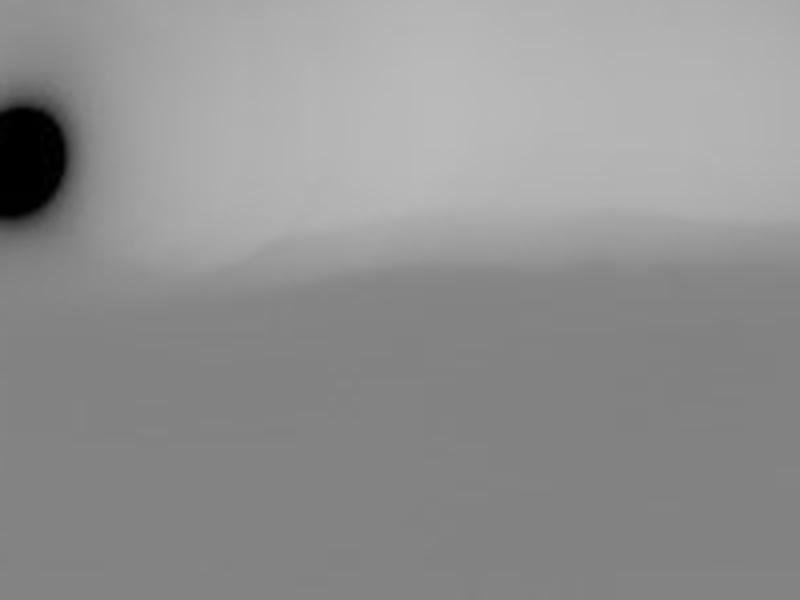defect: (2, 104, 68, 223)
